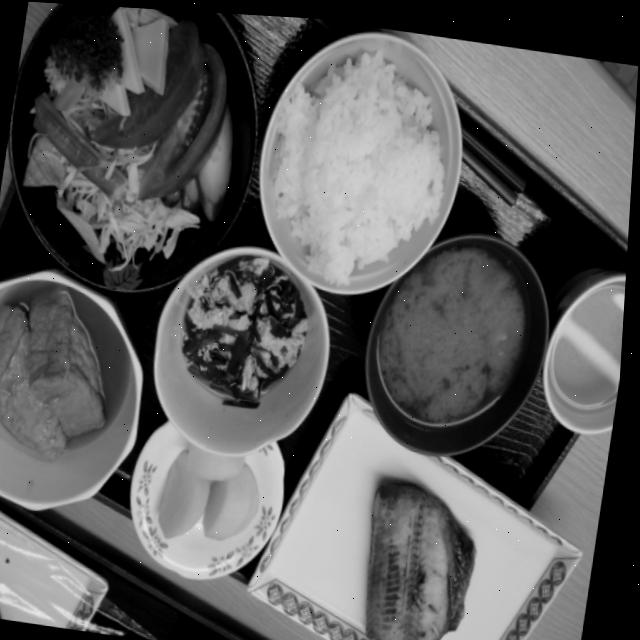汤锅炖物: (345, 245, 577, 435)
米饭主食: (220, 11, 484, 317)
蔬菜料理: (0, 0, 280, 319)
